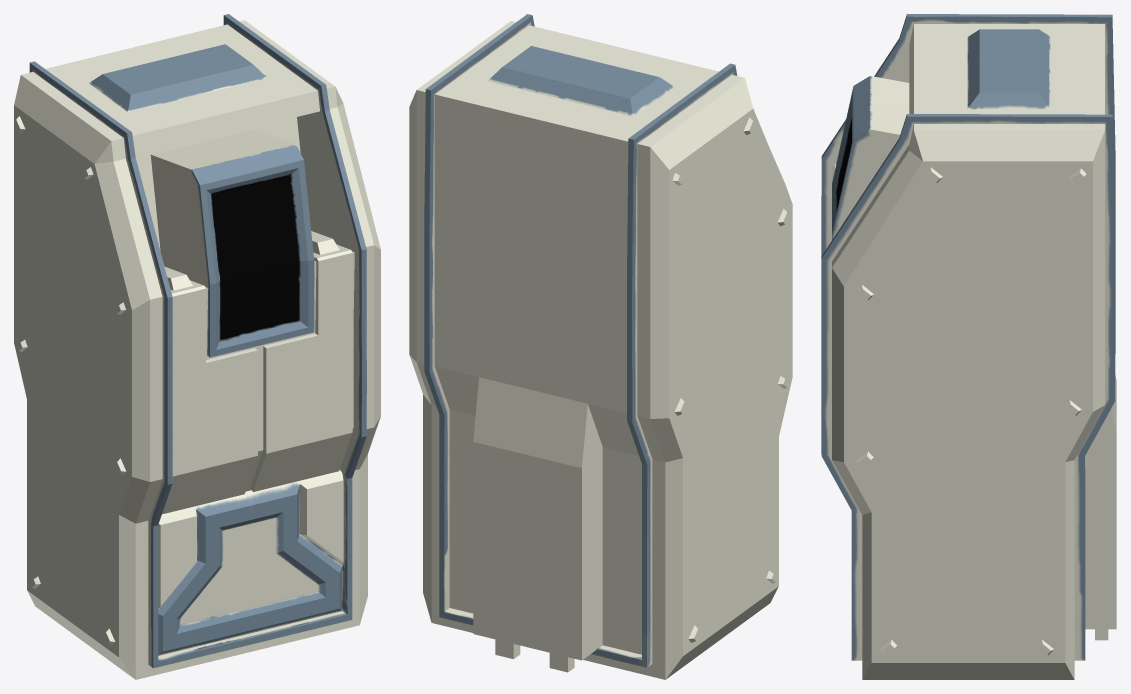
The model's file is Cablebox_closed.fbx.
3 renders of one model, left to right at view 1: azimuth 30°, elevation 25°; view 2: azimuth 150°, elevation 25°; view 3: azimuth 270°, elevation 25°, orthographic. The views are drawn at different scales.
Parts seen in each view (by area): view 1: node_id4; view 2: node_id4; view 3: node_id4.
Boxes of the visible parts, bbox=[...] form: node_id4: bbox=[14, 14, 380, 679]; node_id4: bbox=[409, 14, 792, 679]; node_id4: bbox=[821, 14, 1116, 679].
Size of the model in its own units: 0.2587 by 0.512 by 0.2443.
1 material, 1 textured.
